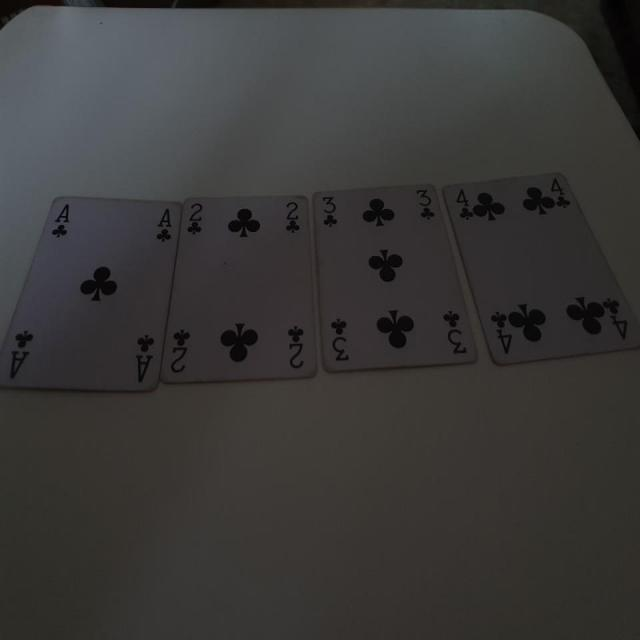2 Trefoils: (158, 194, 318, 384)
3 Trefoils: (312, 182, 478, 375)
4 Trefoils: (440, 169, 640, 368)
A Trefoils: (1, 196, 183, 394)
